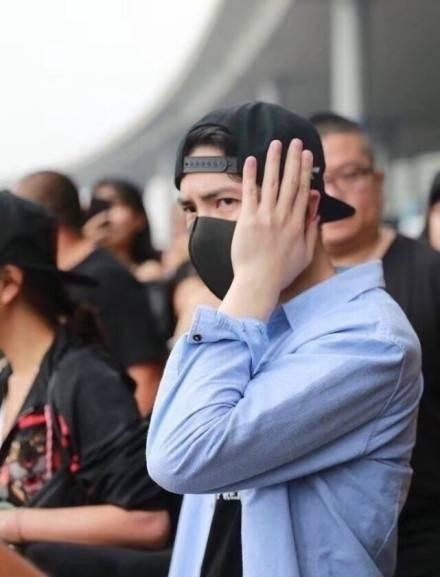Mask: (166, 184, 283, 302)
